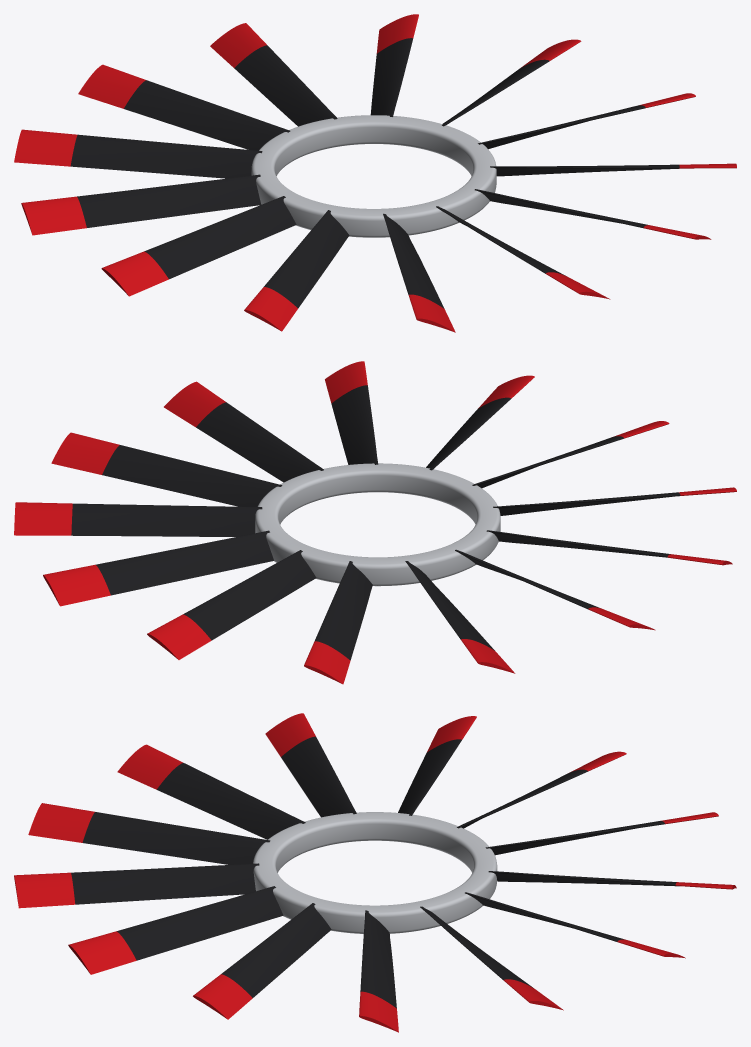
The model's file is x1_fan_upper_cw.glb.
3 views of the same model, one above another, from view 1: azimuth 30°, elevation 25°; view 2: azimuth 150°, elevation 25°; view 3: azimuth 270°, elevation 25° (orthographic).
Visible parts, largest first — view 1: x1_fan_upper_cw; view 2: x1_fan_upper_cw; view 3: x1_fan_upper_cw.
Boxes of the visible parts, bbox=[...] form: x1_fan_upper_cw: bbox=[14, 14, 736, 332]; x1_fan_upper_cw: bbox=[14, 361, 736, 684]; x1_fan_upper_cw: bbox=[14, 713, 736, 1032].
Bounding box in the file's own units: 1.09 × 0.0375 × 1.09.
